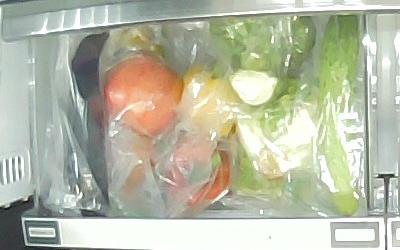apple_vinyl: (103, 56, 184, 139)
broccoli_vinyl: (214, 15, 315, 107)
cucumber_vinyl: (318, 15, 361, 216)
eggplant_vinyl: (70, 31, 110, 216)
lettuce_vinyl: (235, 79, 317, 194)
paprika_vinyl: (165, 136, 232, 208), (182, 63, 238, 140)
